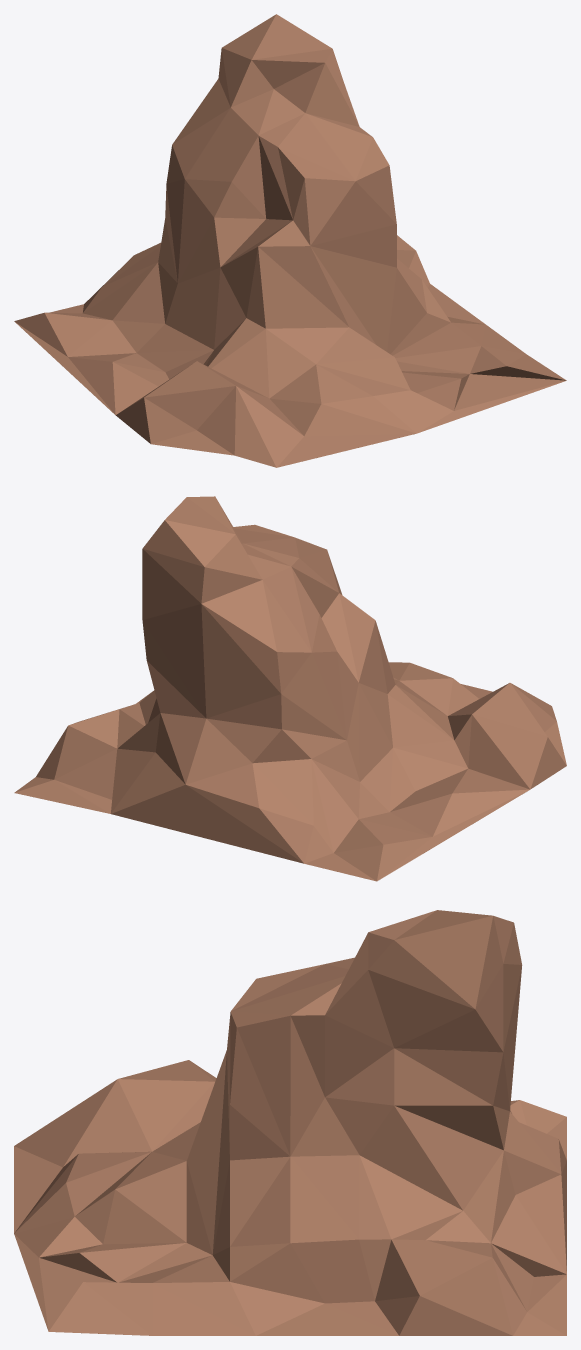
Rendered from 05 Mountain_1.FBX.
3 renders of one model, top to bottom at view 1: azimuth 30°, elevation 25°; view 2: azimuth 150°, elevation 25°; view 3: azimuth 270°, elevation 25°, orthographic. The views are drawn at different scales.
Parts seen in each view (by area): view 1: Mountain_desert_001; view 2: Mountain_desert_001; view 3: Mountain_desert_001.
Boxes of the visible parts, bbox=[...] form: Mountain_desert_001: bbox=[14, 14, 566, 467]; Mountain_desert_001: bbox=[14, 496, 566, 881]; Mountain_desert_001: bbox=[14, 910, 566, 1335].
Bounding box in the file's own units: 5152 × 3570 × 5152.
